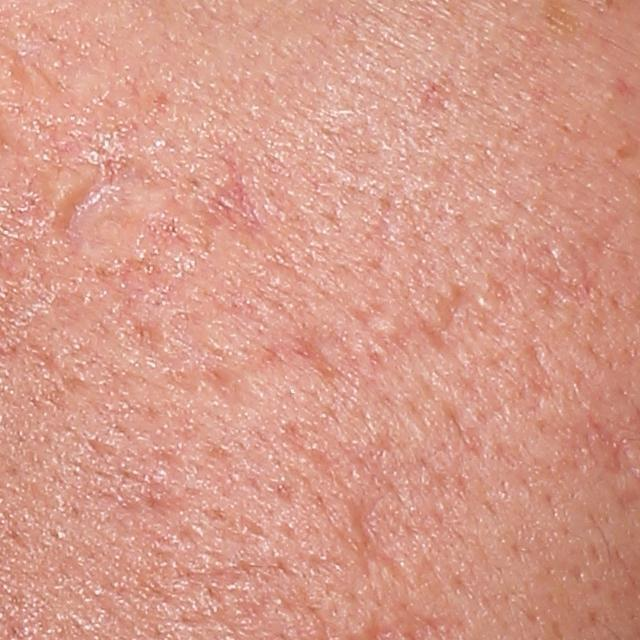atrophic_scar: (349, 496, 414, 588), (45, 176, 125, 248), (427, 281, 479, 359), (213, 153, 261, 234), (284, 335, 346, 384), (203, 362, 259, 409)
